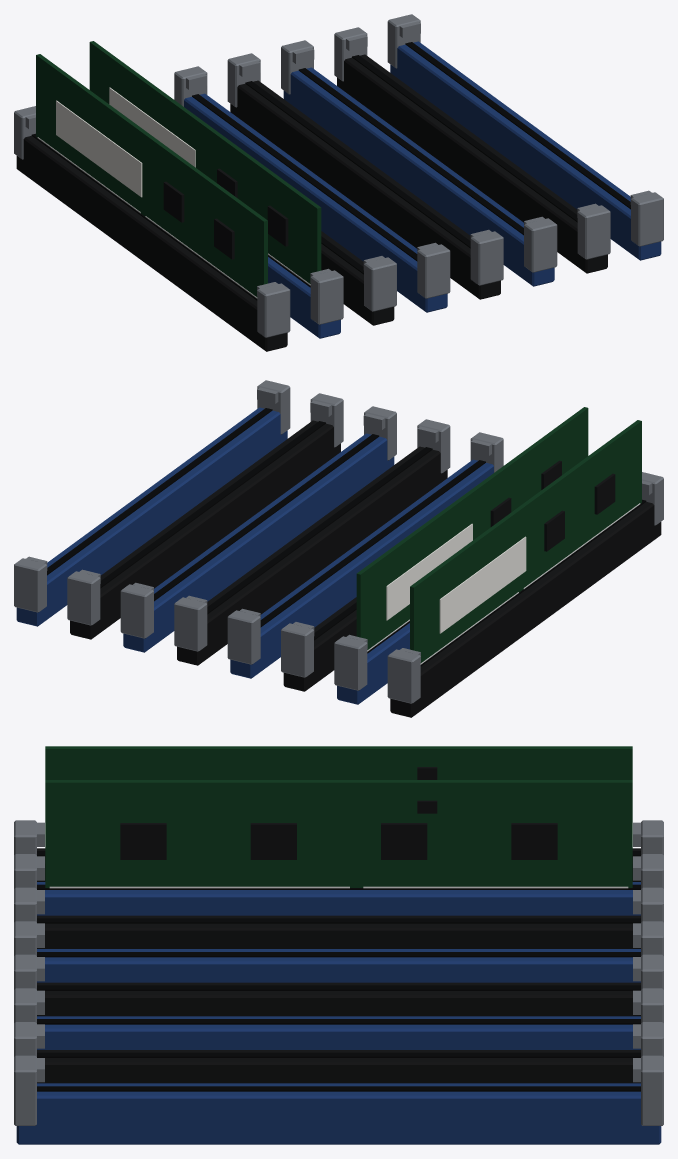
The model's file is hwm_ram_ddr2_2gb.glb.
3 views of the same model, one above another, from view 1: azimuth 30°, elevation 25°; view 2: azimuth 150°, elevation 25°; view 3: azimuth 270°, elevation 25° (orthographic). The views are drawn at different scales.
Parts seen in each view (by area): view 1: Slots, Stick_0, Stick_1, Latch_1_1, Latch_4_1, Latch_6_1, Latch_5_1, Latch_0_1, Latch_3_1, Latch_7_1, Latch_2_1, Latch_4_0 (+5 smaller); view 2: Slots, Stick_0, Stick_1, Latch_1_0, Latch_4_0, Latch_6_0, Latch_5_0, Latch_0_0, Latch_3_0, Latch_7_0, Latch_2_0, Latch_4_1 (+5 smaller); view 3: Slots, Stick_1, Stick_0, Latch_7_0, Latch_7_1, Latch_2_0, Latch_2_1, Latch_4_0, Latch_4_1, Latch_0_0, Latch_0_1, Latch_5_0 (+7 smaller).
Part boxes in pixels (bbox=[...]): Slots: bbox=[16, 41, 661, 351]; Stick_0: bbox=[36, 54, 267, 298]; Stick_1: bbox=[89, 41, 321, 285]; Latch_1_1: bbox=[310, 268, 343, 324]; Latch_4_1: bbox=[470, 229, 503, 285]; Latch_6_1: bbox=[577, 203, 610, 259]; Latch_5_1: bbox=[524, 216, 557, 272]; Latch_0_1: bbox=[257, 282, 290, 337]; Latch_3_1: bbox=[417, 242, 450, 298]; Latch_7_1: bbox=[630, 190, 663, 246]; Latch_2_1: bbox=[363, 256, 396, 311]; Latch_4_0: bbox=[227, 53, 260, 107]; Slots: bbox=[16, 407, 661, 717]; Stick_0: bbox=[410, 420, 641, 664]; Stick_1: bbox=[356, 407, 588, 651]; Latch_1_0: bbox=[334, 634, 367, 690]; Latch_4_0: bbox=[174, 595, 207, 651]; Latch_6_0: bbox=[67, 569, 100, 625]; Latch_5_0: bbox=[120, 582, 153, 638]; Latch_0_0: bbox=[387, 648, 420, 703]; Latch_3_0: bbox=[227, 608, 260, 664]; Latch_7_0: bbox=[14, 556, 47, 612]; Latch_2_0: bbox=[281, 622, 314, 677]; Latch_4_1: bbox=[417, 419, 450, 473]; Slots: bbox=[16, 848, 661, 1144]; Stick_1: bbox=[45, 780, 632, 888]; Stick_0: bbox=[45, 746, 632, 779]; Latch_7_0: bbox=[633, 1055, 663, 1125]; Latch_7_1: bbox=[14, 1055, 44, 1125]; Latch_2_0: bbox=[633, 887, 663, 922]; Latch_2_1: bbox=[14, 887, 44, 922]; Latch_4_0: bbox=[633, 954, 663, 989]; Latch_4_1: bbox=[14, 954, 44, 989]; Latch_0_0: bbox=[633, 820, 663, 855]; Latch_0_1: bbox=[14, 820, 44, 855]; Latch_5_0: bbox=[633, 988, 663, 1022].
Bounding box in the file's own units: 0.1346 × 0.0389 × 0.1472.
